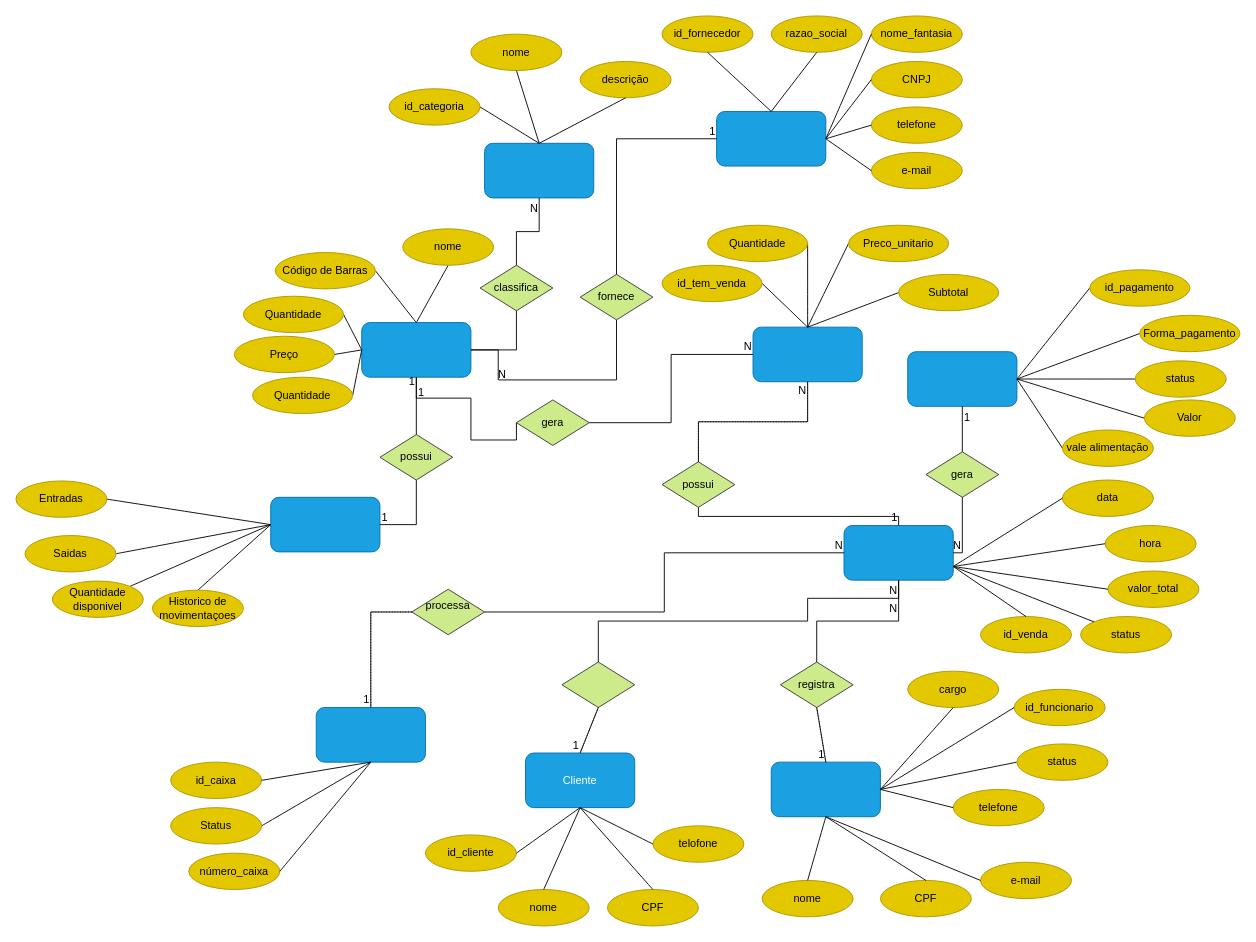
Some shapes in this 1256 by 942 pixel diagram are drawn without their labels. The centre of each missing label's shape, as x and y in pixels:
"Caixa" goes at (370,734).
"Categoria" goes at (539,170).
"Estoque" goes at (325,524).
"Fornecedor" goes at (771,138).
"Funcionário" goes at (825,789).
"ItemVenda" goes at (807,354).
"Pagamento" goes at (962,378).
"Produto" goes at (416,349).
"realiza" goes at (598,684).
"Venda" goes at (898,552).
